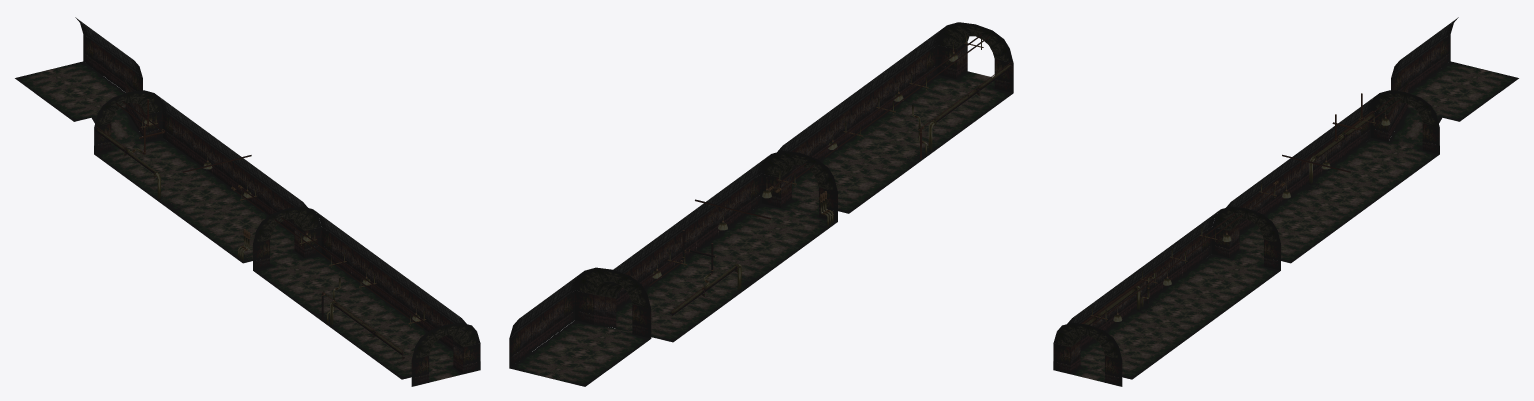
3 views of the same model, side by side, from view 1: azimuth 30°, elevation 25°; view 2: azimuth 150°, elevation 25°; view 3: azimuth 330°, elevation 25° (orthographic). The views are drawn at different scales.
Visible parts, largest first — view 1: YUKA00_m0, YUKA00#1_m0, YUKA05#3_m0, YUKA05#2_m0, SIKII00_m0, YUKA05_m0, YUKA05#1_m0, SIKII01_m0, SIKII00#1_m0, YUKA00#2_m0, YUKA01_m0, DR0102_m1 (+12 smaller); view 2: SIKII01_m0, YUKA00#2_m0, YUKA05#2_m0, YUKA05#1_m0, YUKA05_m0, YUKA05#3_m0, SIKII00_m0, YUKA01#1_m0, YUKA01_m0, SIKII00#1_m0, YUKA00#1_m0, YUKA00_m0 (+11 smaller); view 3: YUKA00_m0, YUKA00#1_m0, YUKA05#3_m0, YUKA05#1_m0, YUKA05_m0, YUKA05#2_m0, SIKII01_m0, SIKII00_m0, SIKII00#1_m0, YUKA00#2_m0, YUKA01#1_m0, YUKA01_m0 (+12 smaller).
Part boxes in pixels (x1,y1,x2,y2): YUKA00_m0: (253, 254, 359, 299); YUKA00#1_m0: (94, 138, 201, 183); YUKA05#3_m0: (134, 168, 241, 212); YUKA05#2_m0: (173, 196, 280, 241); SIKII00_m0: (411, 322, 480, 386); YUKA05_m0: (332, 312, 439, 357); YUKA05#1_m0: (293, 283, 399, 328); SIKII01_m0: (94, 78, 162, 154); SIKII00#1_m0: (253, 206, 321, 270); YUKA00#2_m0: (35, 76, 125, 121); YUKA01_m0: (372, 341, 462, 382); DR0102_m1: (154, 93, 202, 166); SIKII01_m0: (575, 267, 651, 338); YUKA00#2_m0: (532, 320, 650, 370); YUKA05#2_m0: (685, 227, 804, 277); YUKA05#1_m0: (820, 131, 934, 181); YUKA05_m0: (862, 99, 980, 149); YUKA05#3_m0: (644, 260, 757, 309); SIKII00_m0: (937, 22, 1013, 93); YUKA01#1_m0: (729, 200, 833, 245); YUKA01_m0: (906, 71, 1012, 117); SIKII00#1_m0: (762, 151, 837, 221); YUKA00#1_m0: (616, 293, 716, 342); YUKA00_m0: (792, 165, 892, 213); YUKA00_m0: (1173, 254, 1280, 299); YUKA00#1_m0: (1332, 138, 1439, 183); YUKA05#3_m0: (1293, 168, 1399, 212); YUKA05#1_m0: (1134, 283, 1240, 328); YUKA05_m0: (1094, 312, 1201, 357); YUKA05#2_m0: (1252, 196, 1360, 241); SIKII01_m0: (1371, 78, 1439, 154); SIKII00_m0: (1053, 322, 1122, 386); SIKII00#1_m0: (1212, 206, 1280, 270); YUKA00#2_m0: (1408, 76, 1498, 121); YUKA01#1_m0: (1230, 224, 1320, 266); YUKA01_m0: (1071, 341, 1161, 382).
Size of the model in its own units: 4.01 by 4.04 by 40.02.
Materials: 18 (17 with a texture image).
